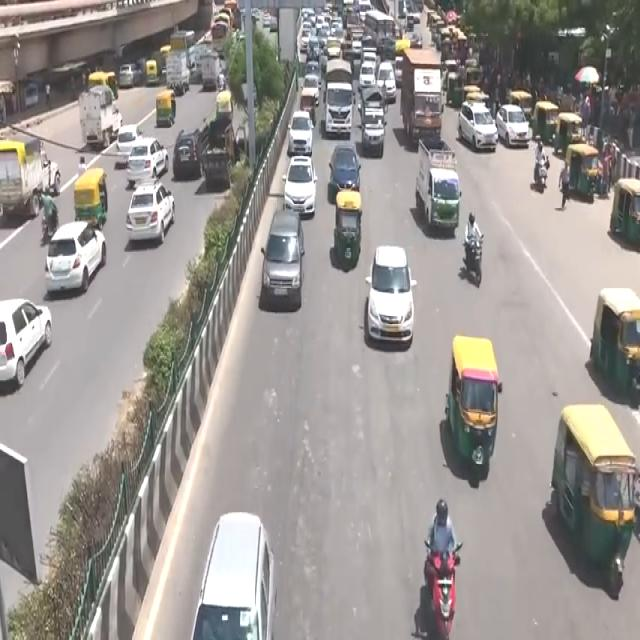MOTORCYCLE: (426, 547, 458, 639), (467, 238, 483, 290)
TRUCK: (0, 132, 53, 224), (401, 47, 446, 147), (78, 87, 120, 149), (326, 76, 354, 136)
